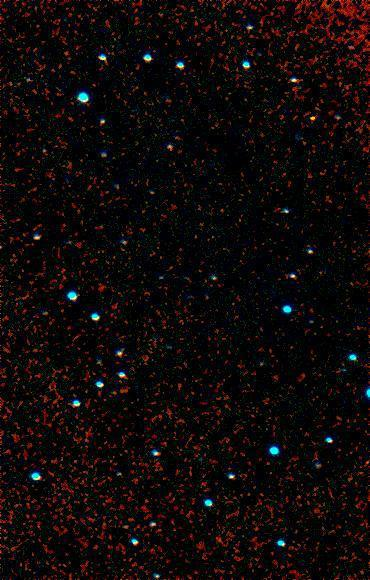star: (294, 104, 324, 134)
